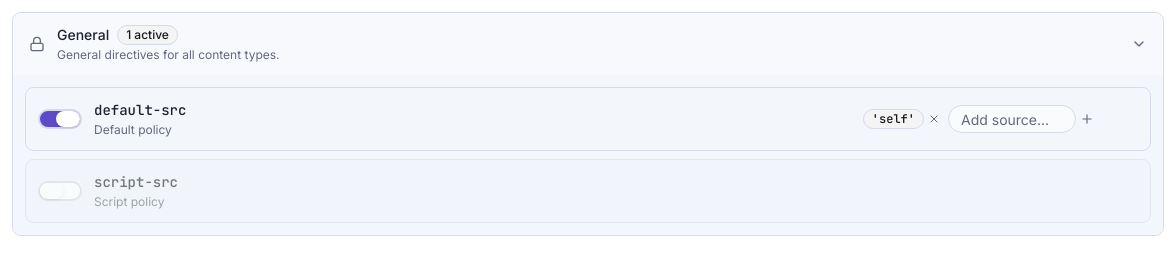
Test case: <DirectiveGroup /> › collapses when header is clicked
Click the button with test id "csp-group-header". click: [83, 34]
box: top-left (13, 13), bottom-right (1163, 75)
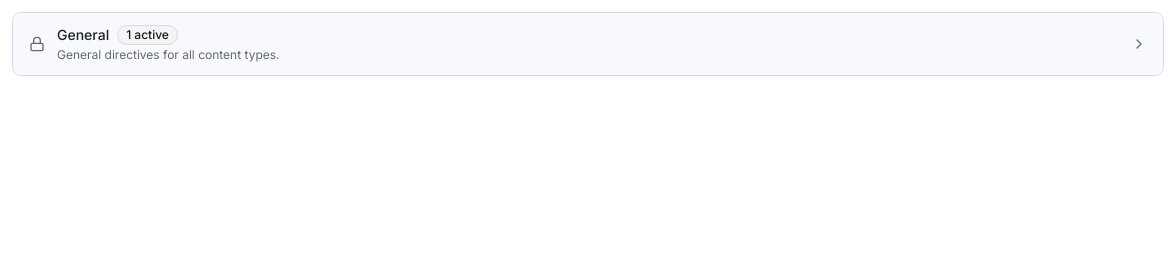
expect the element with test id "csp-group-content" is gone: met
